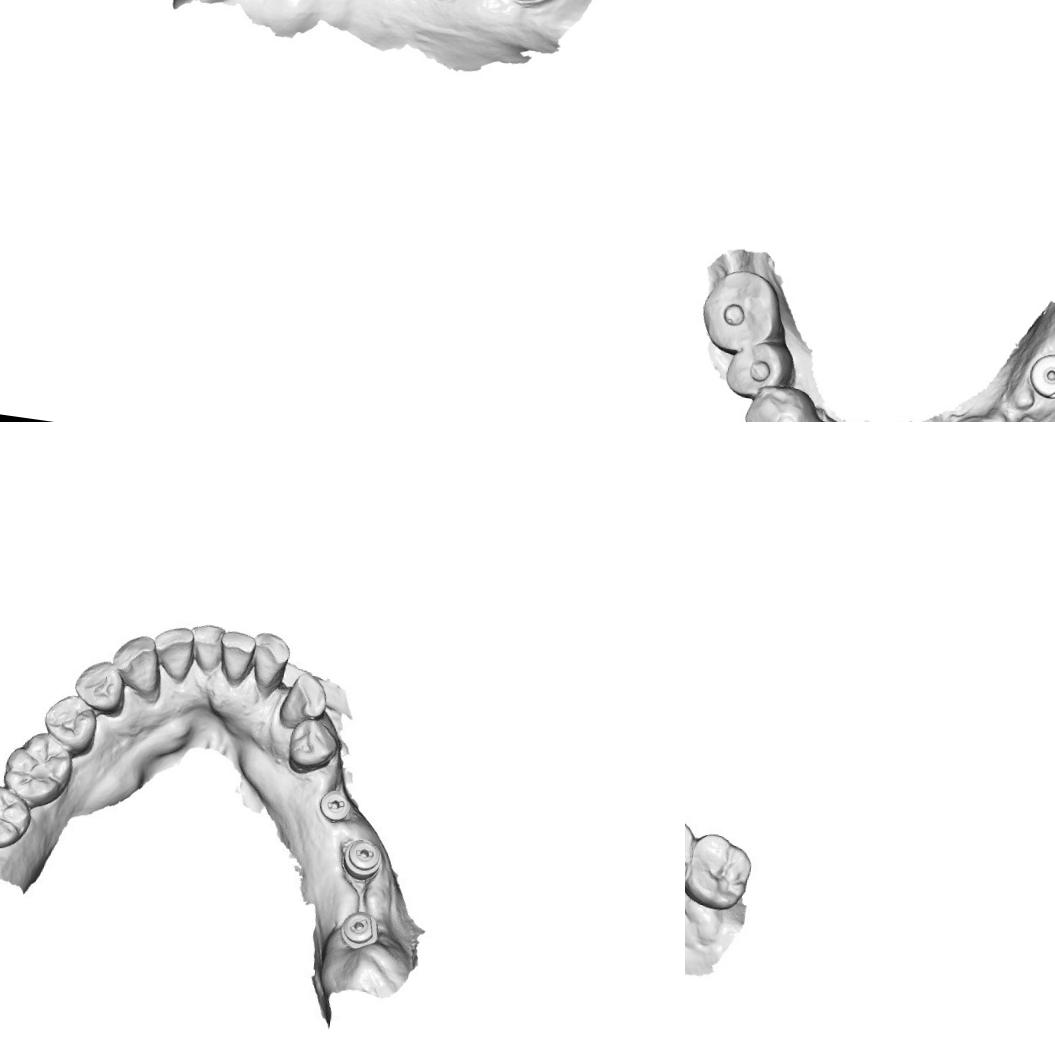canine: (109, 630, 169, 701), (274, 666, 330, 734)
implant: (1025, 350, 1055, 402)
implant_minus: (336, 906, 386, 958), (338, 833, 383, 882), (312, 782, 358, 828)
incisor: (244, 632, 292, 691), (154, 623, 199, 684), (216, 632, 254, 684), (189, 627, 226, 676)
molar: (695, 264, 786, 361), (685, 828, 758, 915), (1, 736, 72, 804), (0, 781, 34, 849)
premolar: (720, 336, 797, 404), (38, 689, 102, 758), (72, 656, 130, 720), (281, 719, 343, 777), (739, 380, 811, 422)
